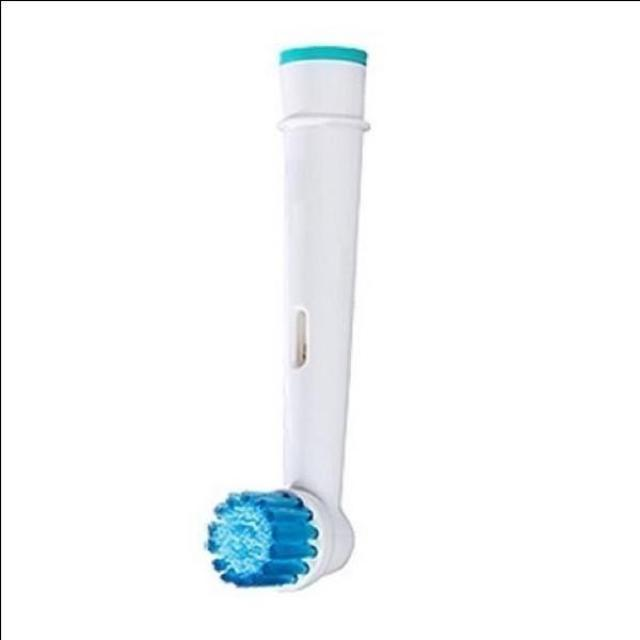toothbrush: (186, 3, 427, 579)
